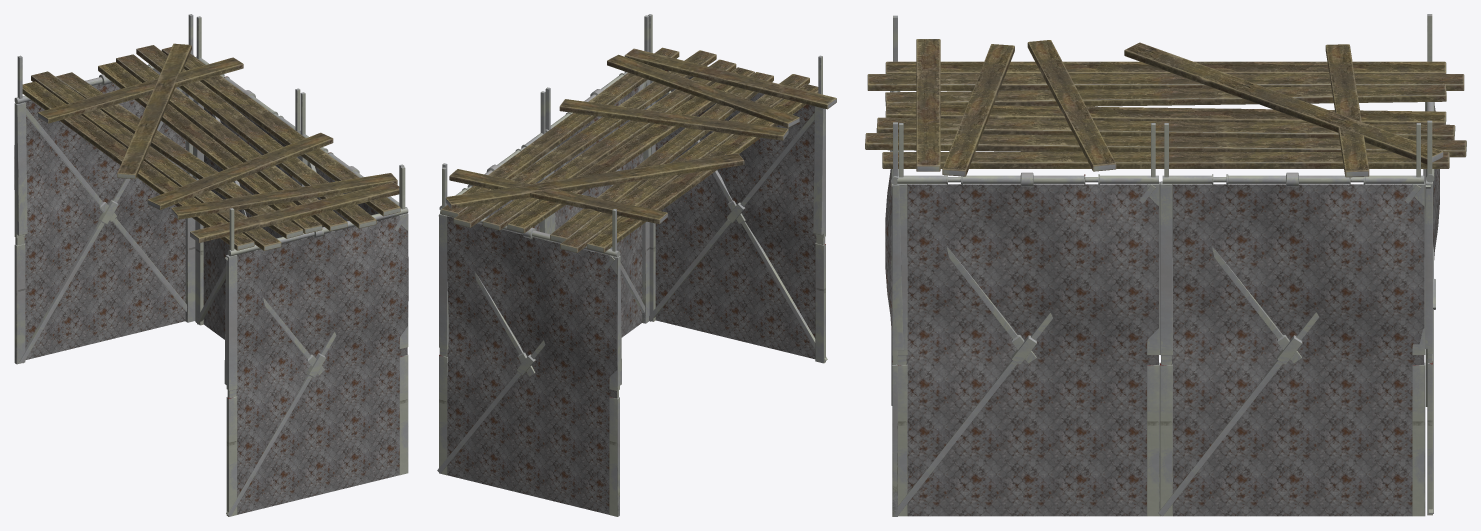
File: SM_Destitute_Shop.fbx
3 views of the same model, side by side, from view 1: azimuth 30°, elevation 25°; view 2: azimuth 150°, elevation 25°; view 3: azimuth 270°, elevation 25° (orthographic). The views are drawn at different scales.
Visible parts, largest first — view 1: SM_Destitute_Shop_LOD0; view 2: SM_Destitute_Shop_LOD0; view 3: SM_Destitute_Shop_LOD0.
Boxes of the visible parts, box(x1,y1,x2,y2) form: SM_Destitute_Shop_LOD0: box(14, 14, 408, 516); SM_Destitute_Shop_LOD0: box(437, 14, 836, 516); SM_Destitute_Shop_LOD0: box(865, 14, 1466, 516).
Size of the model in its own units: 240 by 460 by 330.
Materials: 2 (2 with a texture image).
